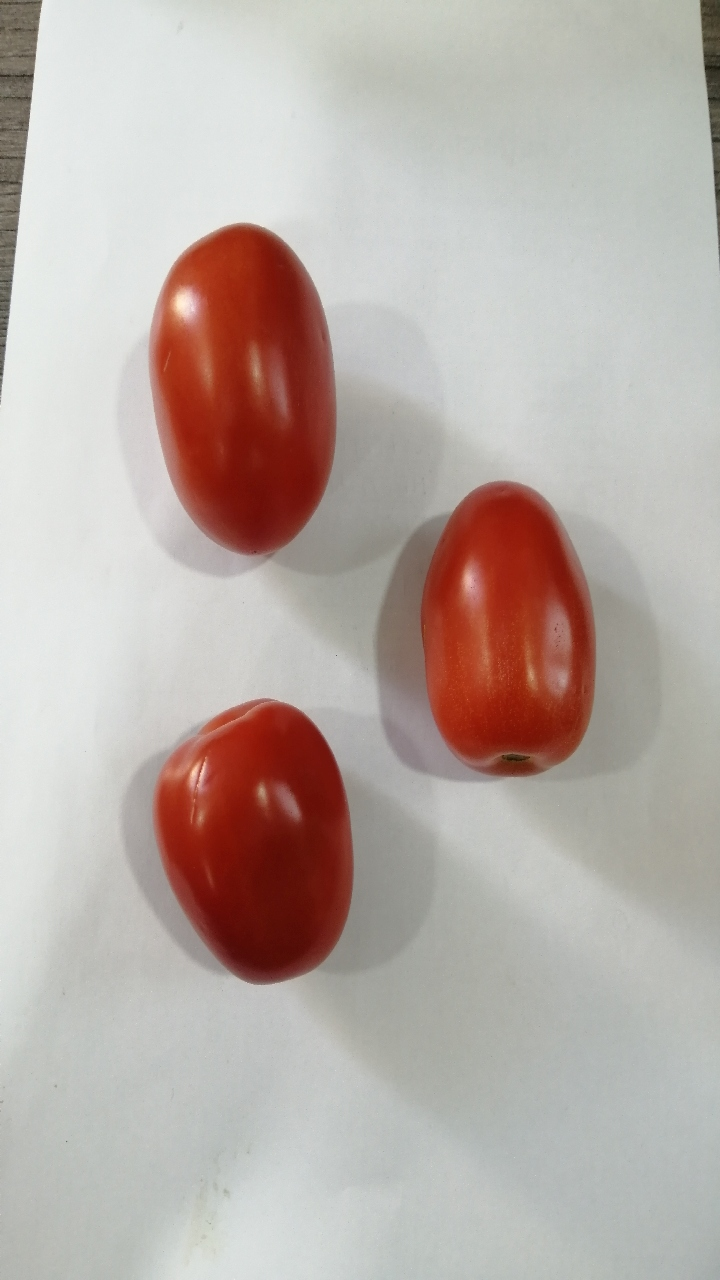tomateRojo: (117, 203, 355, 568), (383, 451, 624, 792), (132, 663, 372, 1005)
